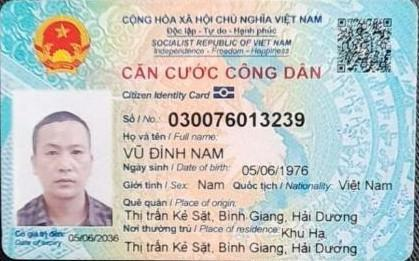ID: (164, 106, 307, 131)
name: (121, 142, 228, 162), (237, 160, 311, 179)
place: (120, 206, 364, 226)
residence: (122, 237, 364, 259), (281, 222, 328, 243)
